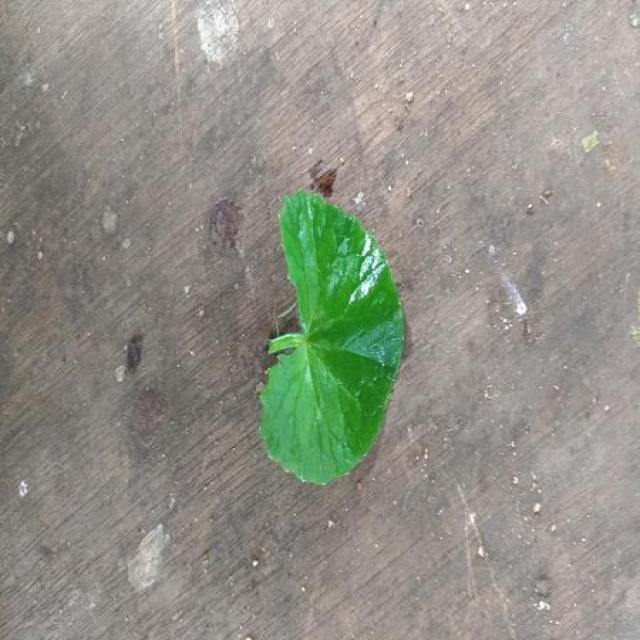bhrami: (260, 191, 405, 483)
